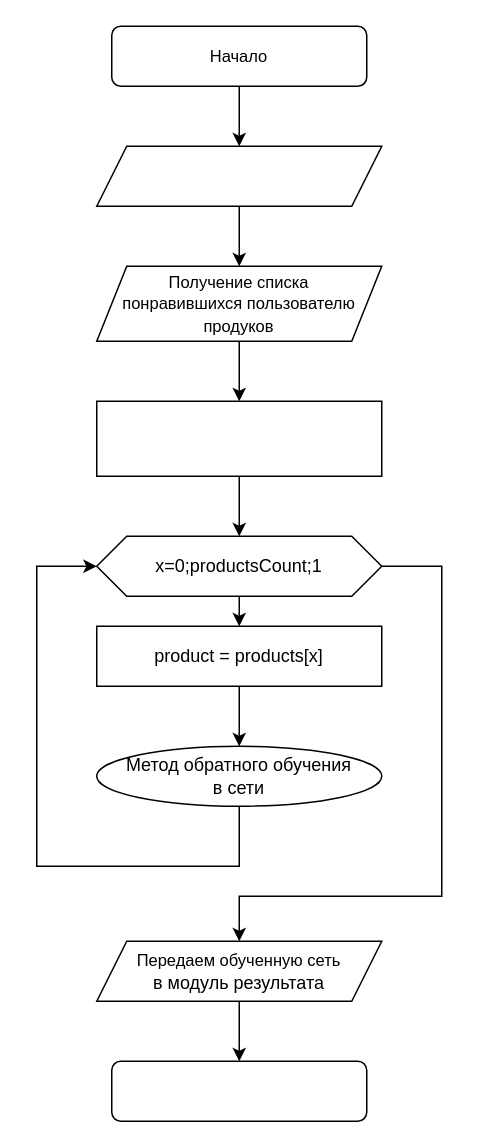
This 480x1148 diagram has some shape labels left out. The centre of each missing label's shape, as x and y in pixels:
products = продукты пользователя, productsCount = количество продуктов: (x=238, y=438)
Конец: (x=238, y=1090)
Получение исходной нейронной сети: (x=238, y=175)
